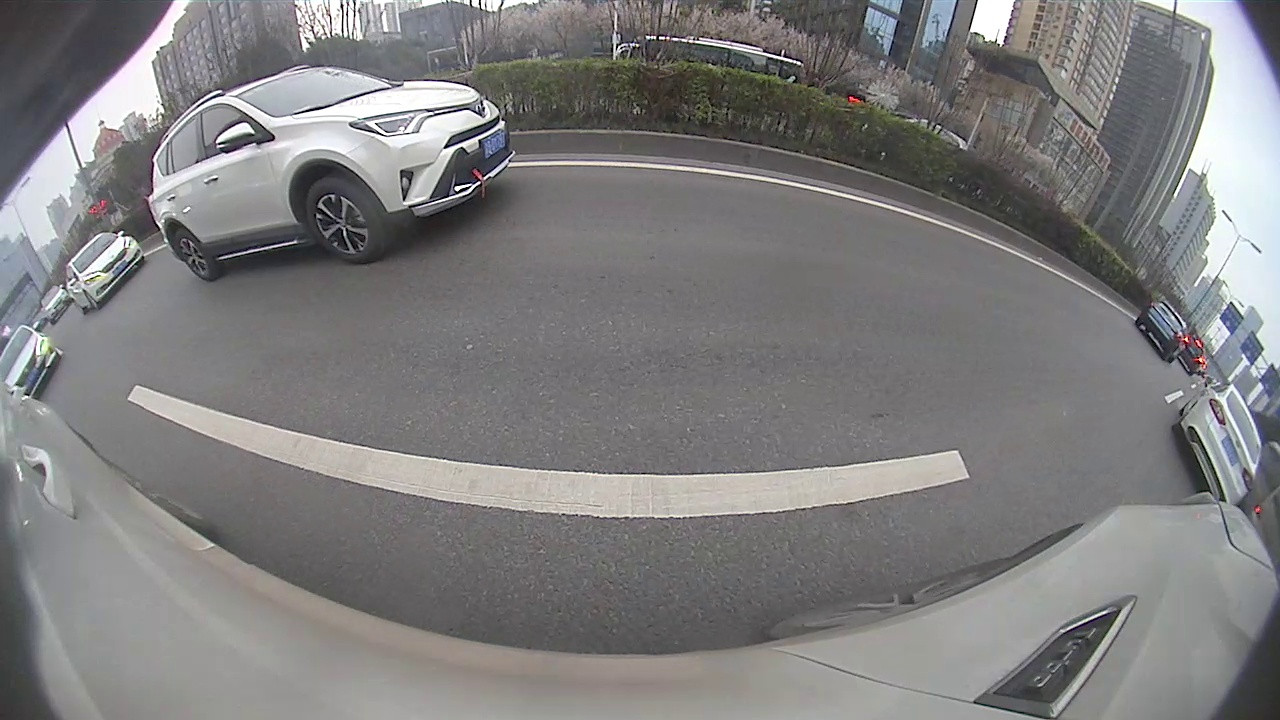car: (148, 63, 518, 284), (1171, 377, 1264, 507), (63, 228, 146, 315), (1, 324, 62, 399), (1133, 297, 1193, 365)
front: (305, 180, 379, 263)
rear: (173, 232, 213, 282)
